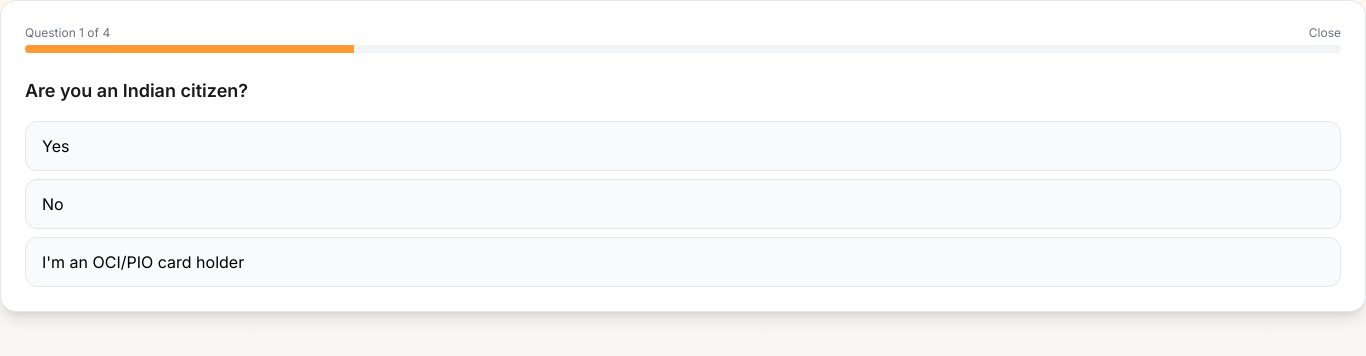
EligibilityWizard › blocks OCI holders
Click the button "I'm an OCI/PIO card holder" at (143, 262), box [25,237,1341,287]
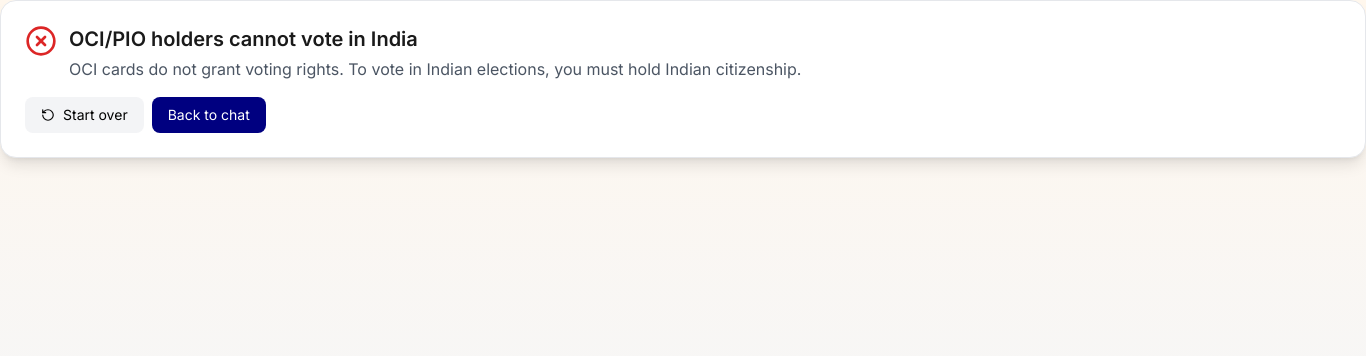
Now the heading "OCI/PIO holders cannot vote in India" is shown, box [69,27,418,51]
